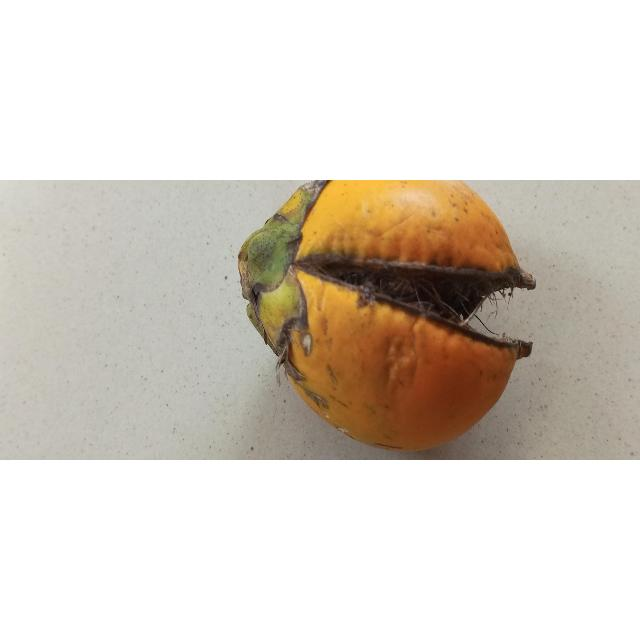damaged: (237, 180, 536, 453)
